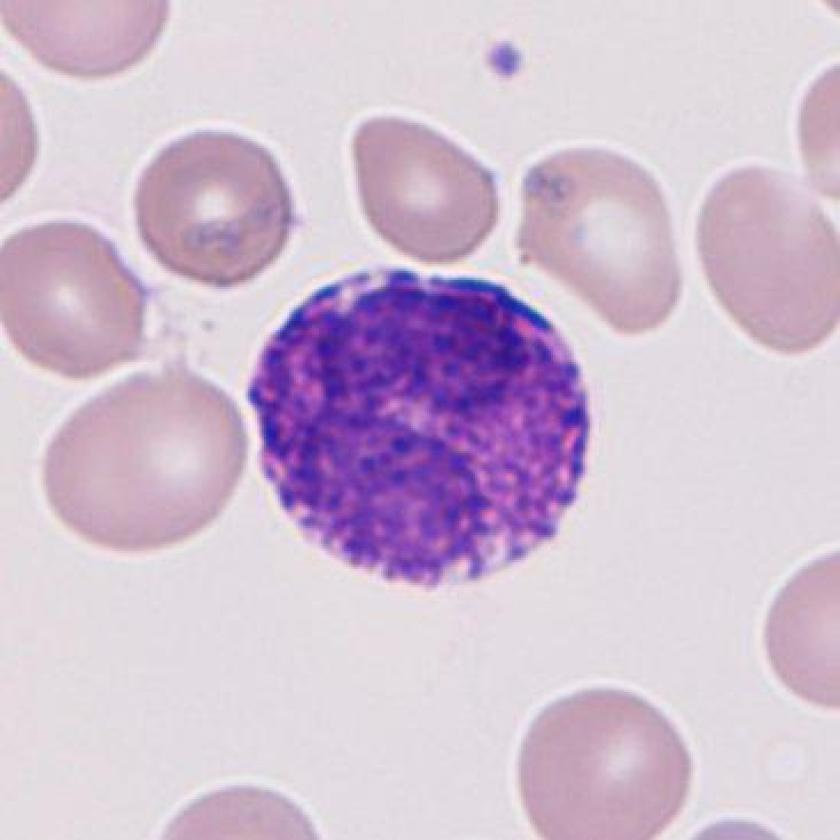basophil: (244, 258, 607, 595)
